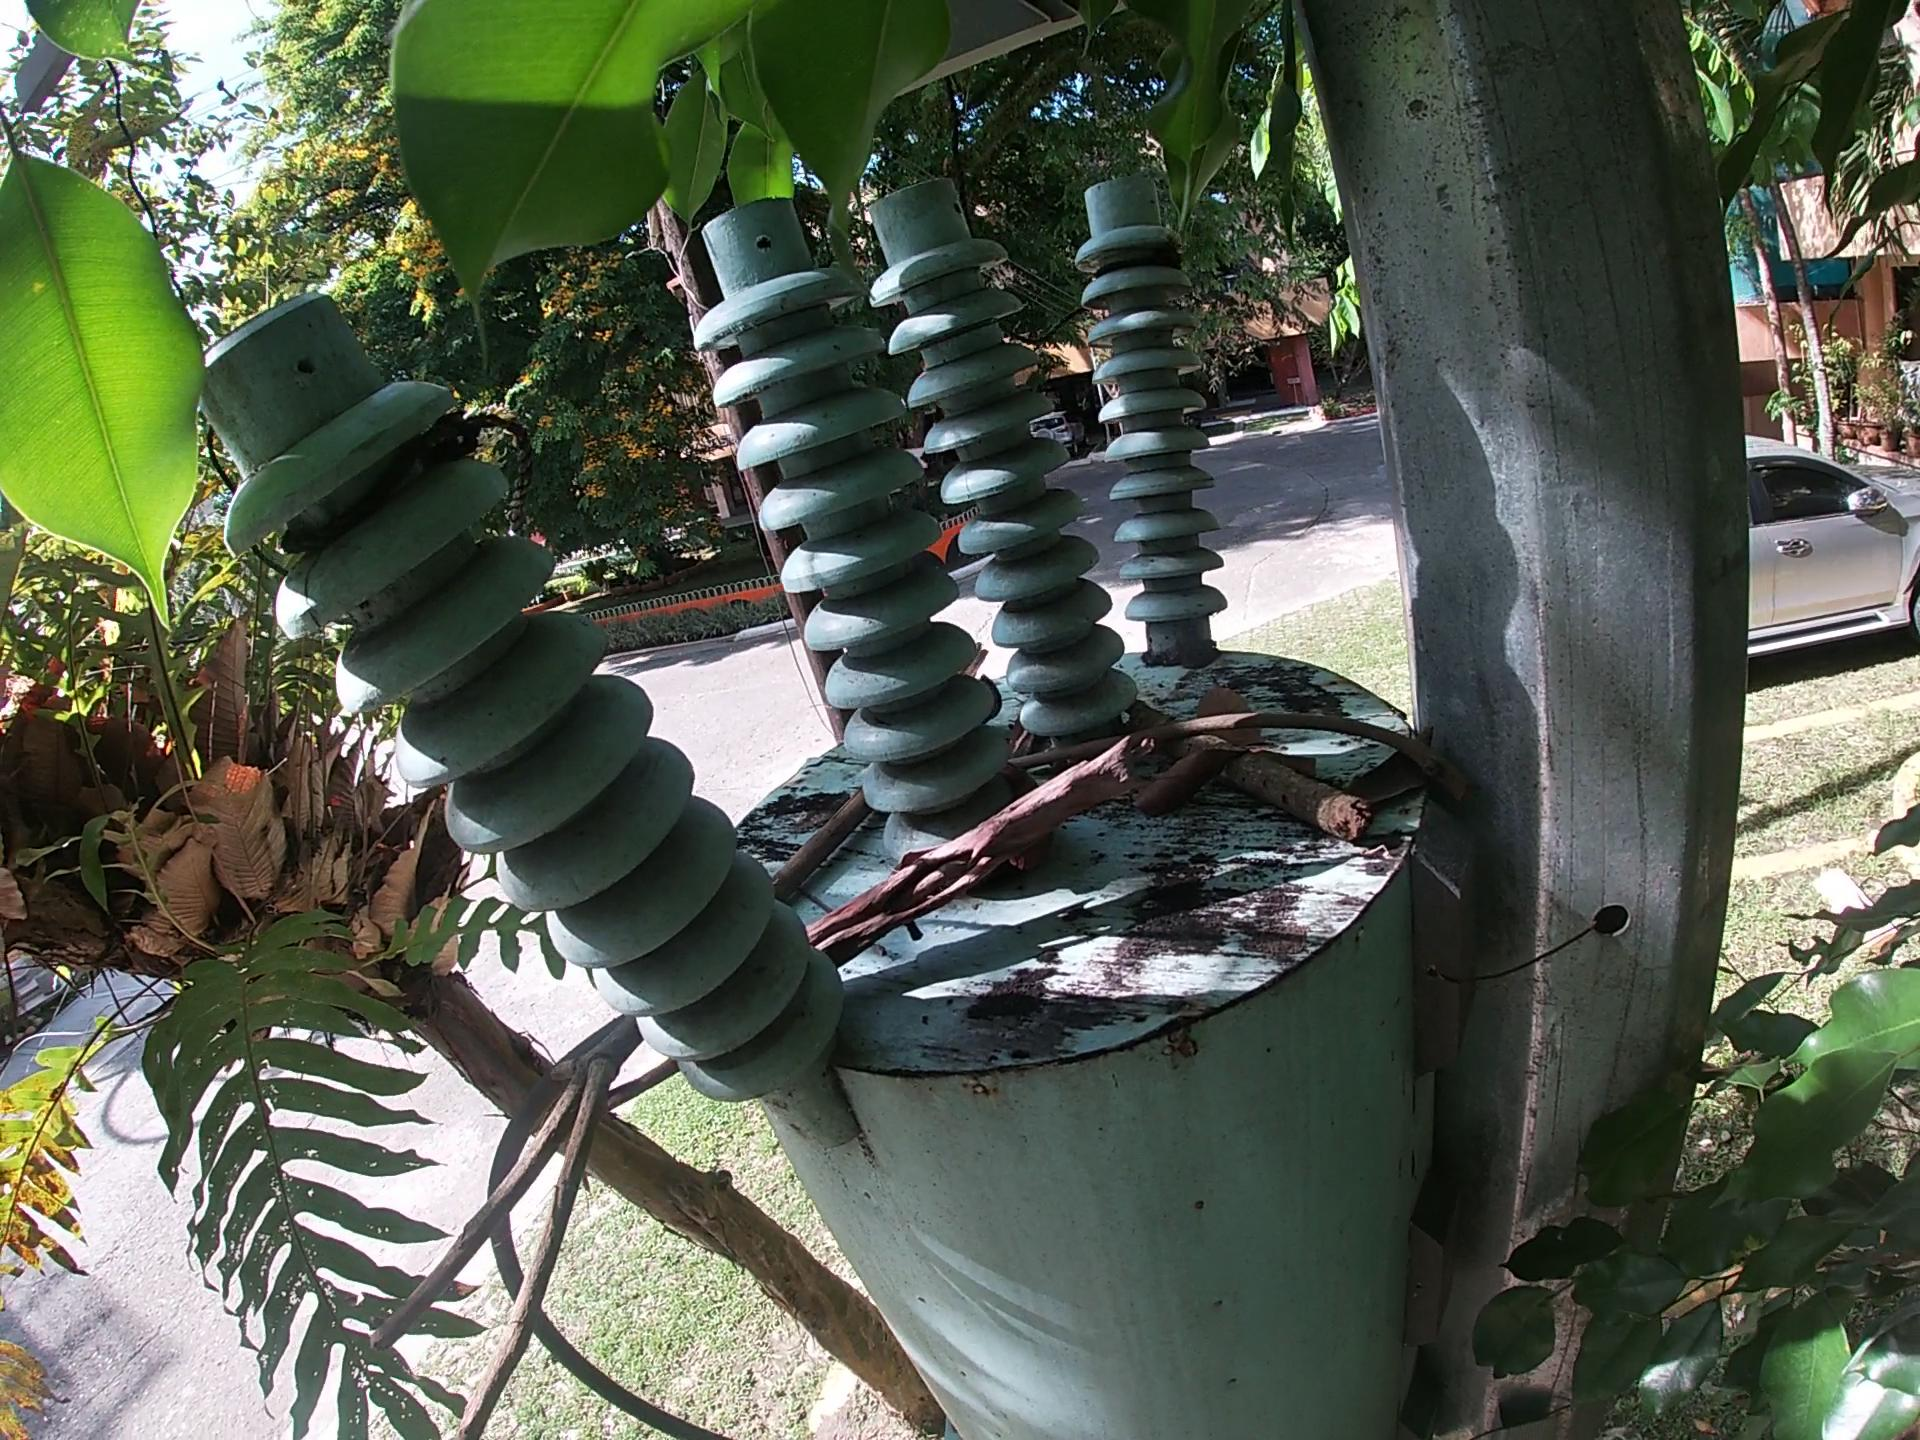leaf: (1129, 746, 1231, 818), (1193, 667, 1261, 735)
tree branch: (366, 1010, 682, 1440), (804, 731, 1157, 945), (1138, 693, 1367, 864), (996, 715, 1454, 774), (773, 777, 865, 900), (965, 625, 998, 672)
